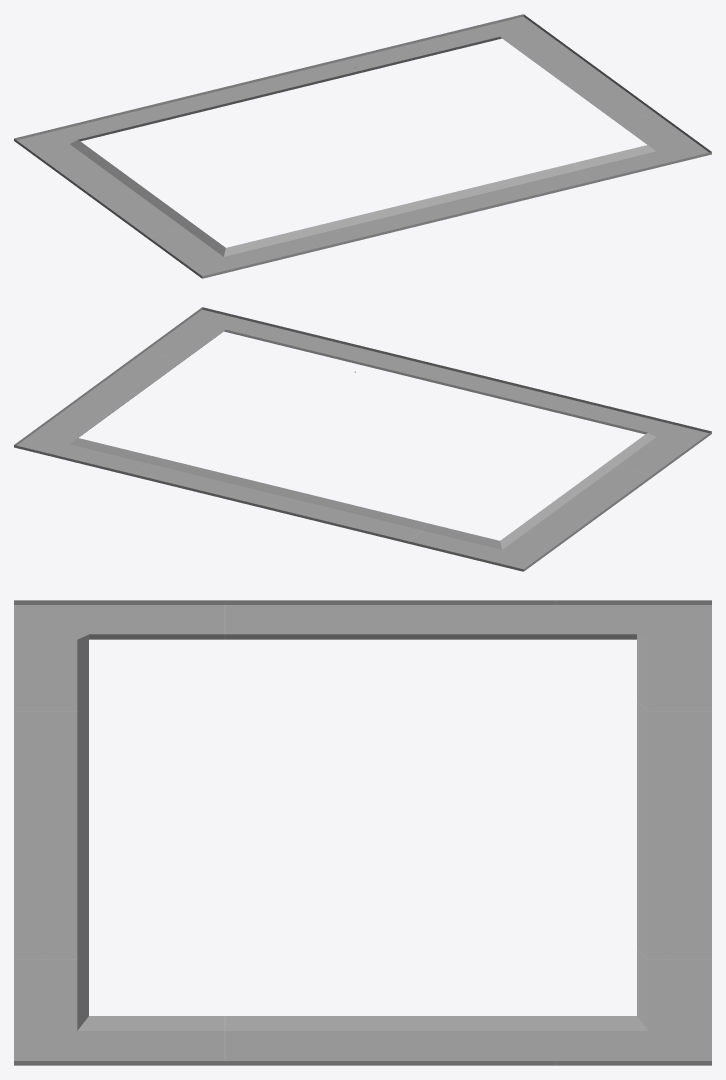
Rendered from MeshTelevision_11_0_GeomSubset_1.obj.
3 renders of one model, top to bottom at view 1: azimuth 30°, elevation 25°; view 2: azimuth 150°, elevation 25°; view 3: azimuth 270°, elevation 25°, orthographic. The views are drawn at different scales.
Visible parts, largest first — view 1: MeshTelevision_11_0_GeomSubset_1; view 2: MeshTelevision_11_0_GeomSubset_1; view 3: MeshTelevision_11_0_GeomSubset_1.
Boxes of the visible parts, bbox=[...] form: MeshTelevision_11_0_GeomSubset_1: bbox=[14, 14, 711, 278]; MeshTelevision_11_0_GeomSubset_1: bbox=[14, 307, 711, 571]; MeshTelevision_11_0_GeomSubset_1: bbox=[14, 600, 711, 1065].
Size of the model in its own units: 0.928 by 0.1303 by 0.594.
